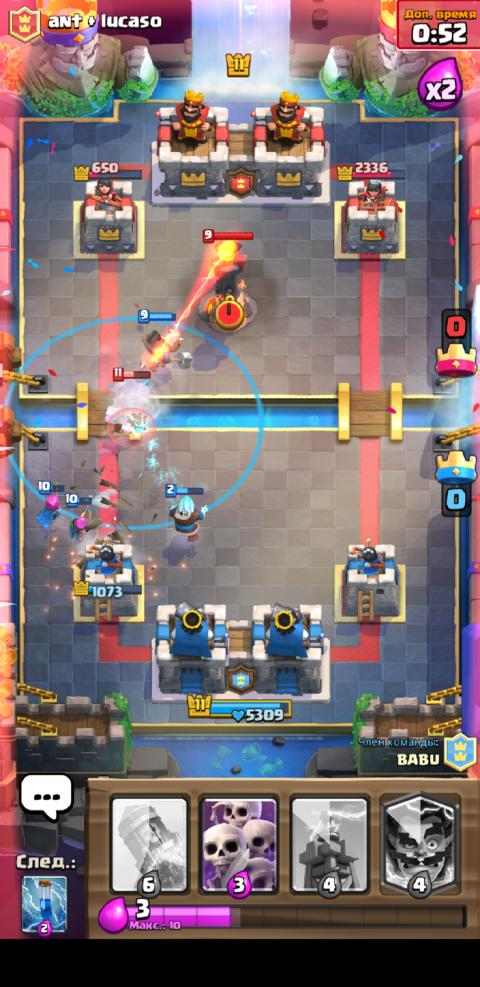ally_archer: (33, 479, 64, 528), (64, 491, 92, 542)
ally_hog_rider: (135, 307, 193, 372)
ally_ice_wizard: (163, 482, 208, 542)
ally_tornado: (1, 314, 266, 531)
enemy_hog_rider: (103, 366, 150, 424)
enemy_inferno_tower: (197, 227, 259, 333)
